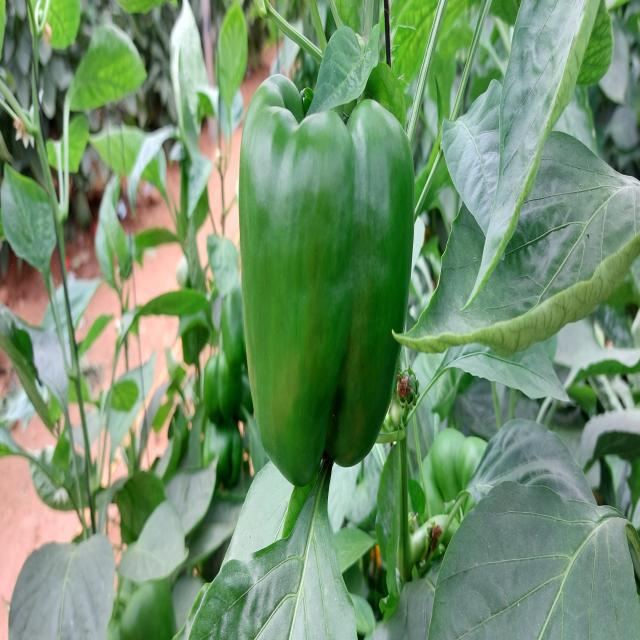Green--Not-ready-to-harvest: (241, 72, 419, 490)
